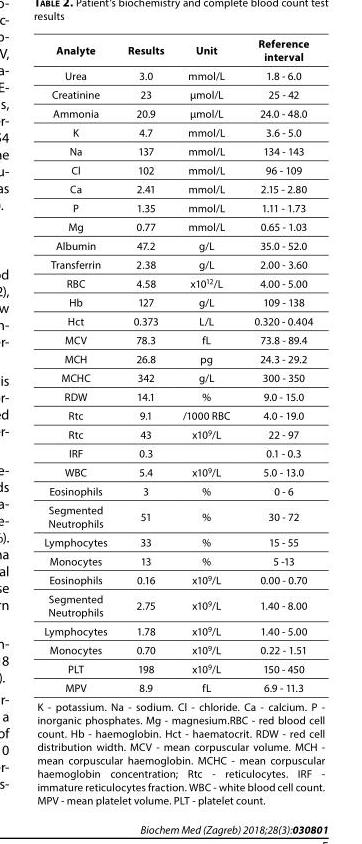table: (36, 35, 324, 806)
table column: (241, 35, 324, 806), (36, 35, 116, 806), (172, 35, 241, 806), (116, 35, 172, 806)
table column header: (36, 35, 324, 65)
table projected row header: (36, 696, 324, 806)
table row: (36, 696, 324, 806), (36, 499, 324, 532), (36, 588, 324, 620), (36, 35, 324, 65), (36, 65, 324, 84), (36, 84, 324, 103), (36, 103, 324, 122), (36, 122, 324, 141), (36, 141, 324, 160), (36, 178, 324, 197), (36, 197, 324, 216), (36, 216, 324, 235), (36, 235, 324, 254), (36, 254, 324, 273), (36, 273, 324, 292), (36, 292, 324, 311), (36, 329, 324, 348), (36, 348, 324, 367), (36, 367, 324, 386), (36, 386, 324, 405), (36, 405, 324, 424), (36, 424, 324, 443), (36, 443, 324, 462), (36, 462, 324, 481), (36, 532, 324, 551), (36, 569, 324, 588), (36, 620, 324, 639), (36, 639, 324, 658), (36, 658, 324, 677), (36, 677, 324, 696), (36, 160, 324, 178), (36, 311, 324, 329), (36, 481, 324, 499), (36, 551, 324, 569)
